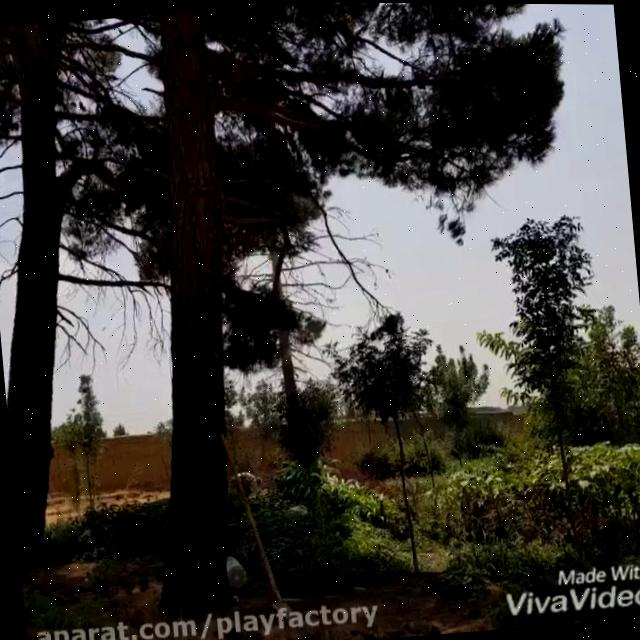drone: (324, 293, 338, 303)
